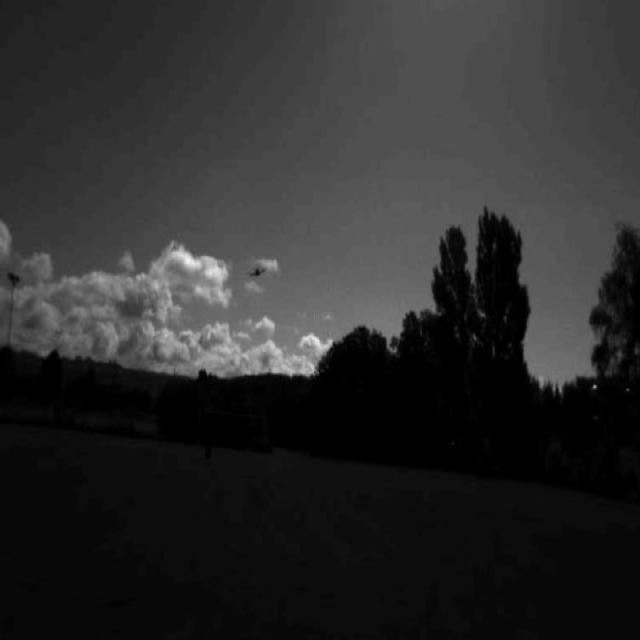drone: (248, 263, 266, 280)
